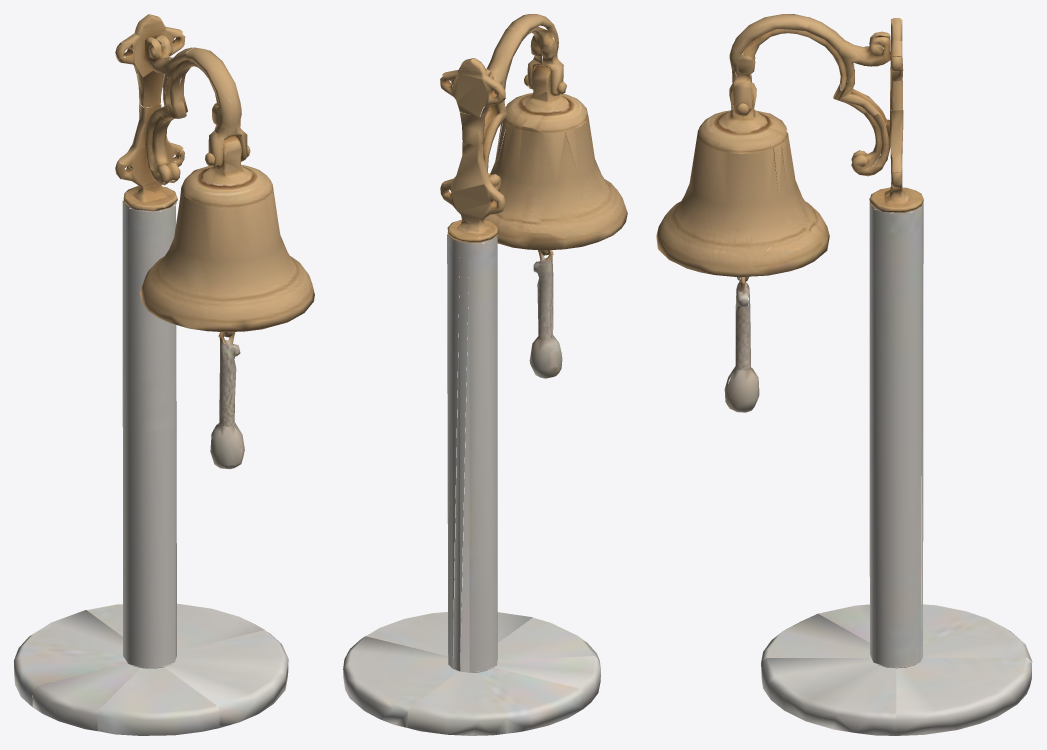
Rendered from ship-bell.glb.
The picture shows the model from 3 angles, left to right: view 1: azimuth 30°, elevation 25°; view 2: azimuth 150°, elevation 25°; view 3: azimuth 270°, elevation 25°; orthographic projection. The views are drawn at different scales.
Parts seen in each view (by area): view 1: tripo_node_1d3deacc-1d3d-4626-8e09-b3ba9b5d41b0; view 2: tripo_node_1d3deacc-1d3d-4626-8e09-b3ba9b5d41b0; view 3: tripo_node_1d3deacc-1d3d-4626-8e09-b3ba9b5d41b0.
Boxes of the visible parts, x1,y1,x2,y2 form: tripo_node_1d3deacc-1d3d-4626-8e09-b3ba9b5d41b0: (14,14,314,735); tripo_node_1d3deacc-1d3d-4626-8e09-b3ba9b5d41b0: (343,14,627,735); tripo_node_1d3deacc-1d3d-4626-8e09-b3ba9b5d41b0: (656,14,1032,735).
Size of the model in its own units: 0.5979 by 1.6 by 0.824.
Materials: 1 (1 with a texture image).
